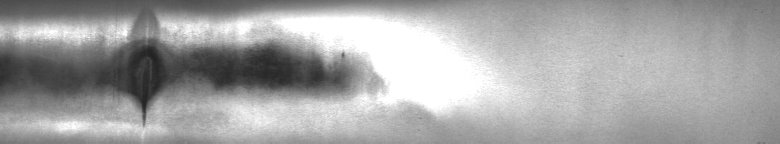ke: (4, 4, 437, 136)
